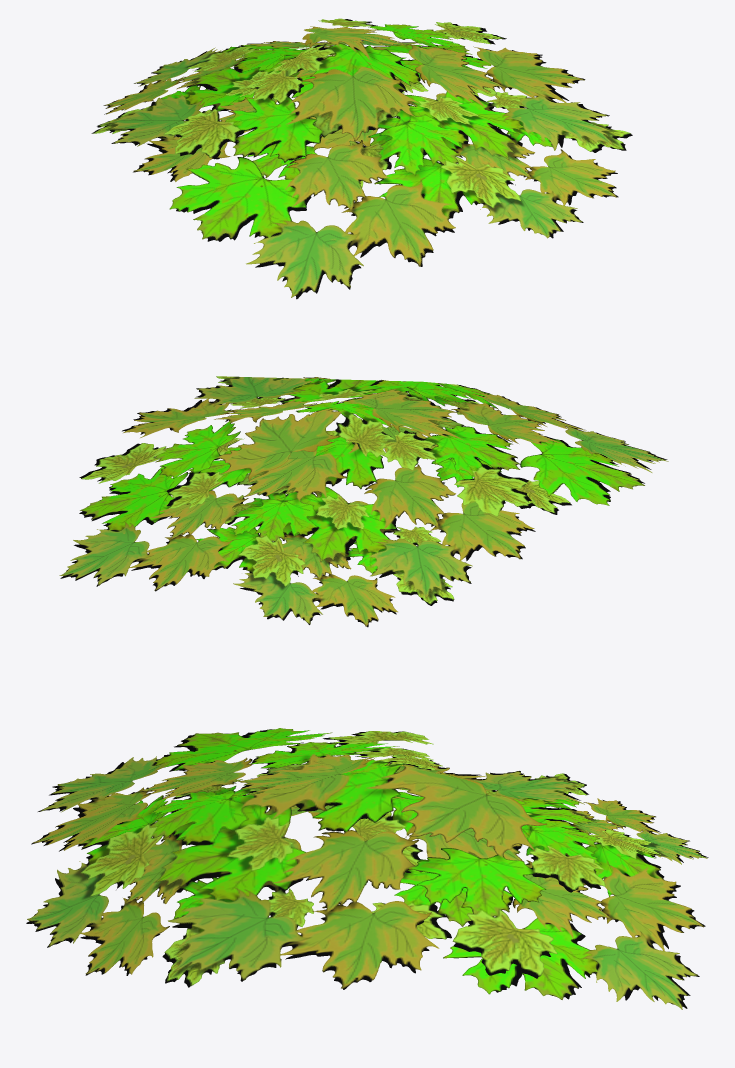
File: Bush_Green.fbx
3 views of the same model, one above another, from view 1: azimuth 30°, elevation 25°; view 2: azimuth 150°, elevation 25°; view 3: azimuth 270°, elevation 25° (orthographic). The views are drawn at different scales.
Visible parts, largest first — view 1: Bush.001; view 2: Bush.001; view 3: Bush.001.
Boxes of the visible parts, <box> form: Bush.001: <box>91,18,632,299</box>; Bush.001: <box>59,376,668,627</box>; Bush.001: <box>26,728,708,1009</box>.
Size of the model in its own units: 2.18 by 0.6308 by 2.43.
